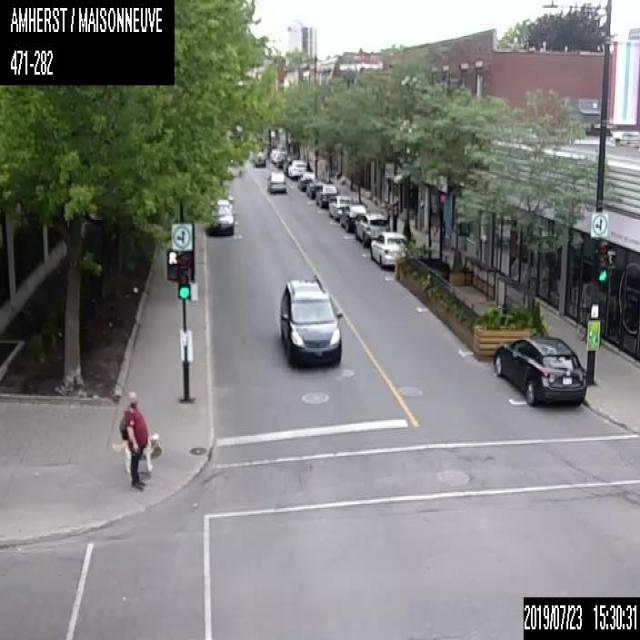pedestrian: (118, 392, 148, 489)
vehicle: (491, 336, 587, 404), (278, 273, 342, 363), (369, 230, 408, 266), (354, 211, 388, 242), (207, 198, 234, 234), (338, 204, 366, 229), (327, 194, 351, 219), (316, 183, 338, 207), (267, 170, 286, 192), (306, 179, 324, 200), (287, 158, 306, 177), (297, 172, 314, 188)
